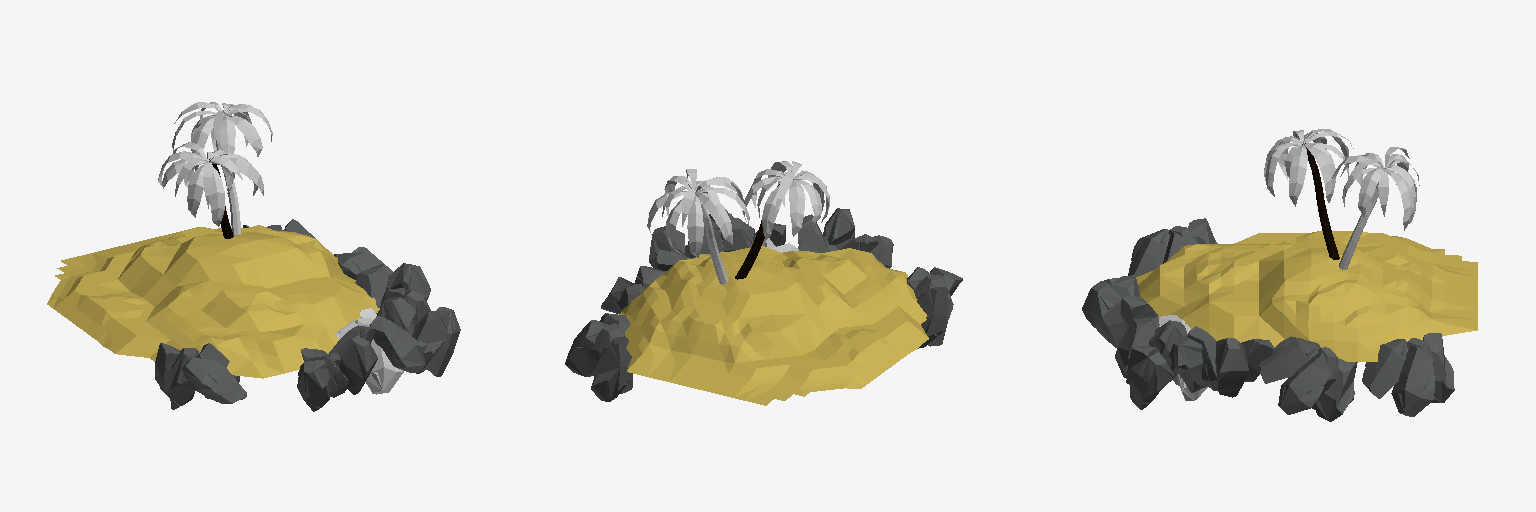
File: island_small_2.obj
3 views of the same model, side by side, from view 1: azimuth 30°, elevation 25°; view 2: azimuth 150°, elevation 25°; view 3: azimuth 270°, elevation 25° (orthographic).
Visible parts, largest first — view 1: Cube, RB1_RB1_Cube.002, RB1_RB1_Cube.004, RB1_RB1_Cube.001, RB1_RB1_Cube.009, RB1_RB1_Cube.005, RB1_RB1_Cube.011, 平面.003_平面, 平面.004_平面; view 2: Cube, RB1_RB1_Cube.003, RB1_RB1_Cube.004, RB1_RB1_Cube.001, RB1_RB1_Cube.009, RB1_RB1_Cube.011, RB1_RB1_Cube.002, 平面.002_平面.001, 平面.005_平面, 柱体.001, 平面.002, 平面.006_平面; view 3: Cube, RB1_RB1_Cube.011, RB1_RB1_Cube.003, RB1_RB1_Cube.009, RB1_RB1_Cube.002, RB1_RB1_Cube.004, RB1_RB1_Cube.001, 柱体, 平面.002_平面, 柱体.001, 平面.001, 平面.004_平面.001 (+1 smaller).
Part boxes in pixels (bbox=[...]): Cube: bbox=[47, 225, 379, 378]; RB1_RB1_Cube.002: bbox=[370, 297, 460, 376]; RB1_RB1_Cube.004: bbox=[297, 325, 377, 411]; RB1_RB1_Cube.001: bbox=[155, 343, 246, 409]; RB1_RB1_Cube.009: bbox=[355, 263, 430, 326]; RB1_RB1_Cube.005: bbox=[336, 308, 403, 394]; RB1_RB1_Cube.011: bbox=[334, 247, 392, 279]; 平面.003_平面: bbox=[209, 165, 224, 226]; 平面.004_平面: bbox=[187, 164, 204, 217]; Cube: bbox=[619, 246, 928, 405]; RB1_RB1_Cube.003: bbox=[565, 313, 632, 401]; RB1_RB1_Cube.004: bbox=[798, 208, 893, 268]; RB1_RB1_Cube.001: bbox=[907, 267, 962, 348]; RB1_RB1_Cube.009: bbox=[649, 224, 723, 270]; RB1_RB1_Cube.011: bbox=[601, 266, 665, 313]; RB1_RB1_Cube.002: bbox=[703, 209, 785, 251]; 平面.002_平面.001: bbox=[687, 194, 703, 257]; 平面.005_平面: bbox=[789, 179, 805, 236]; 柱体.001: bbox=[700, 201, 728, 284]; 平面.002: bbox=[695, 192, 732, 244]; 平面.006_平面: bbox=[762, 185, 784, 239]; Cube: bbox=[1136, 231, 1477, 361]; RB1_RB1_Cube.011: bbox=[1259, 336, 1357, 421]; RB1_RB1_Cube.003: bbox=[1362, 333, 1454, 416]; RB1_RB1_Cube.009: bbox=[1169, 326, 1273, 397]; RB1_RB1_Cube.002: bbox=[1115, 316, 1187, 409]; RB1_RB1_Cube.004: bbox=[1082, 275, 1157, 347]; RB1_RB1_Cube.001: bbox=[1128, 218, 1217, 276]; 柱体: bbox=[1302, 143, 1339, 259]; 平面.002_平面: bbox=[1289, 144, 1307, 206]; 柱体.001: bbox=[1339, 182, 1378, 269]; 平面.001: bbox=[1303, 143, 1335, 202]; 平面.004_平面.001: bbox=[1358, 168, 1383, 217].
Size of the model in its own units: 21.64 by 14.97 by 24.56.